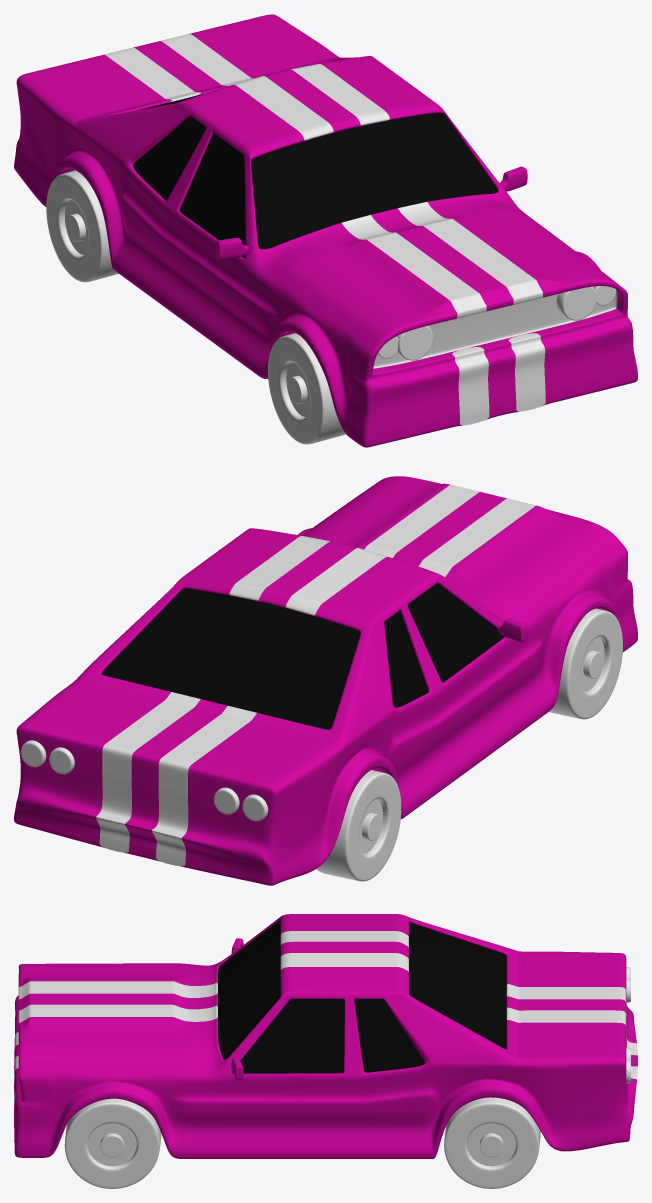
File: RC-Car-Racing.fbx
3 renders of one model, top to bottom at view 1: azimuth 30°, elevation 25°; view 2: azimuth 150°, elevation 25°; view 3: azimuth 270°, elevation 25°, orthographic. The views are drawn at different scales.
Visible parts, largest first — view 1: Car_Body, Car_Windows, Car_Body_Stripes, Car_Wheel_Front_Right, Car_Wheel_Rear_Right, Car_Grill, Car_Lights, Car_Lights_Frames; view 2: Car_Body, Car_Windows, Car_Body_Stripes, Car_Wheel_Rear_Right, Car_Wheel_Front_Right, Car_Lights; view 3: Car_Body, Car_Windows, Car_Body_Stripes, Car_Wheel_Rear_Left, Car_Wheel_Front_Left, Car_Wheel_Rear_Left_Rim, Car_Wheel_Front_Left_Rim.
Boxes of the visible parts, bbox=[...] form: Car_Body: bbox=[14, 14, 637, 447]; Car_Windows: bbox=[133, 95, 497, 258]; Car_Body_Stripes: bbox=[104, 34, 545, 425]; Car_Wheel_Front_Right: bbox=[268, 333, 345, 444]; Car_Wheel_Rear_Right: bbox=[46, 170, 118, 282]; Car_Grill: bbox=[373, 286, 617, 368]; Car_Lights: bbox=[380, 286, 613, 357]; Car_Lights_Frames: bbox=[377, 286, 615, 360]; Car_Body: bbox=[14, 476, 637, 885]; Car_Windows: bbox=[101, 583, 504, 729]; Car_Body_Stripes: bbox=[96, 484, 535, 866]; Car_Wheel_Rear_Right: bbox=[316, 770, 401, 881]; Car_Wheel_Front_Right: bbox=[549, 608, 622, 719]; Car_Lights: bbox=[20, 740, 268, 821]; Car_Body: bbox=[14, 914, 637, 1158]; Car_Windows: bbox=[218, 919, 506, 1073]; Car_Body_Stripes: bbox=[14, 931, 637, 1108]; Car_Wheel_Rear_Left: bbox=[444, 1097, 540, 1188]; Car_Wheel_Front_Left: bbox=[64, 1098, 161, 1188]; Car_Wheel_Rear_Left_Rim: bbox=[467, 1123, 515, 1166]; Car_Wheel_Front_Left_Rim: bbox=[88, 1123, 136, 1166].
Size of the model in its own units: 1.17 by 0.5699 by 0.3695.
